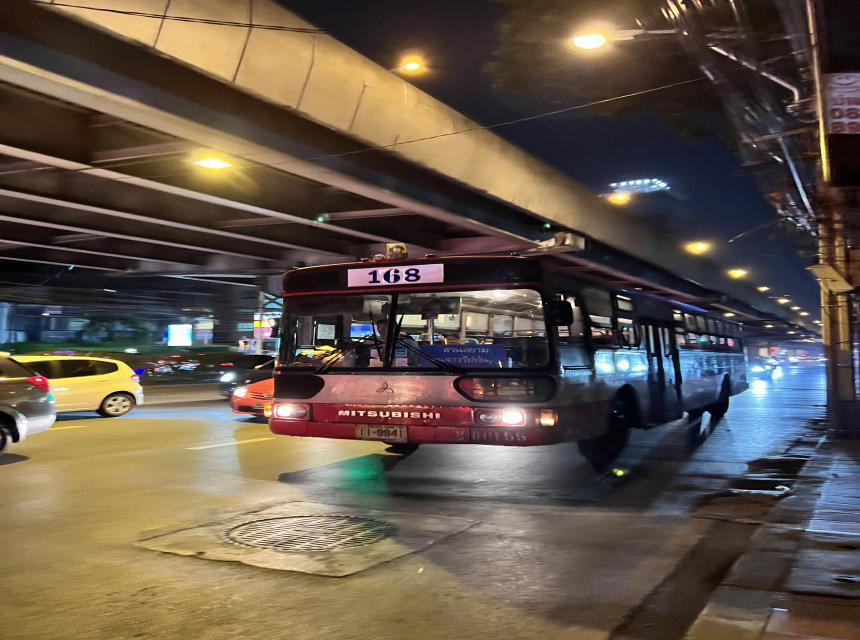BMTA-bus: (266, 258, 745, 470)
Bus Line Number: (362, 268, 428, 286)
Bus Side Number: (448, 428, 531, 445)
Destination Sign: (419, 344, 509, 371)
